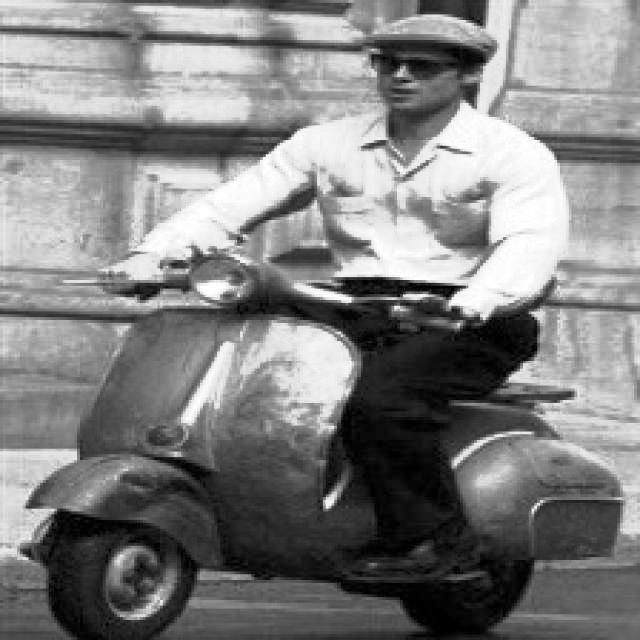Bike: (59, 263, 606, 630)
